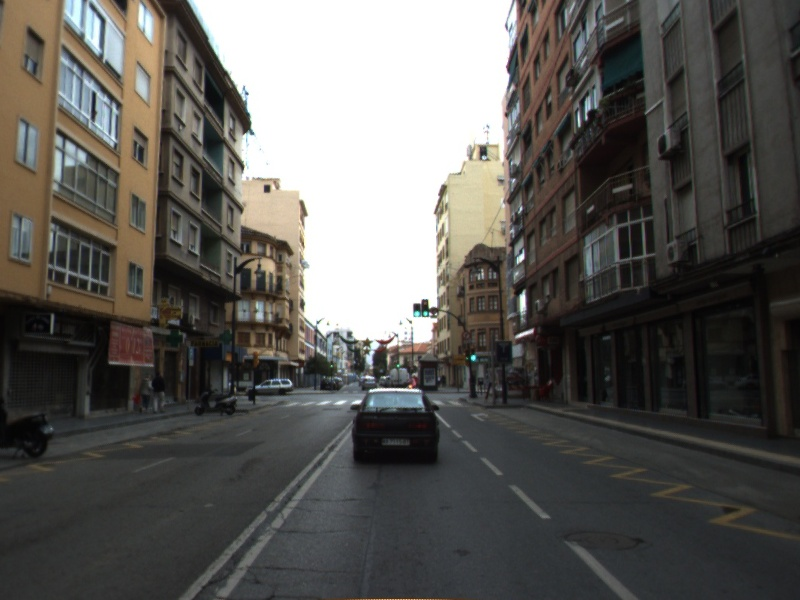RIGHT: (469, 411, 491, 423)
